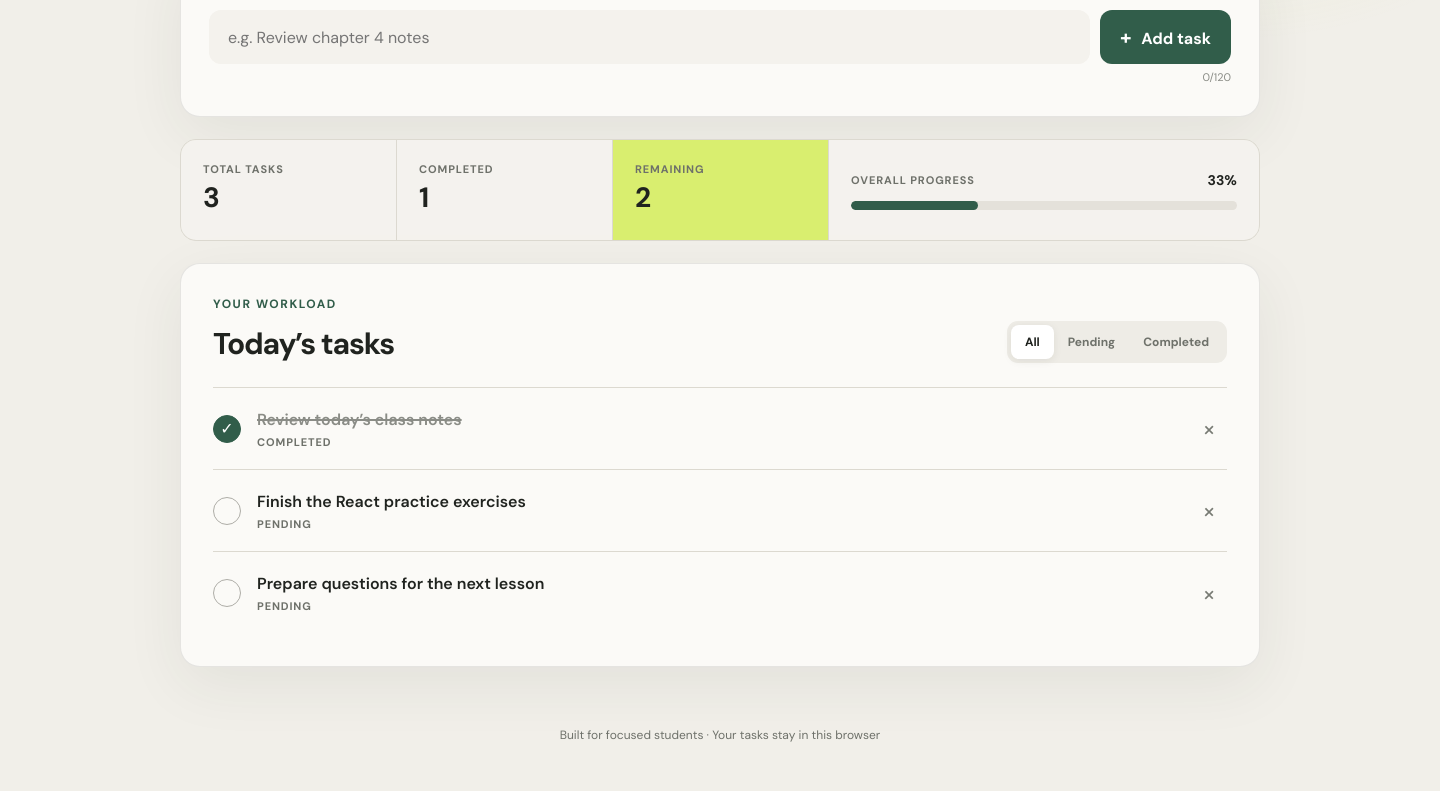
Student Task Manager › asks for confirmation before deleting
(page scrolled)
Click the button named "delete prepare questions" at (1209, 593), box [1191,575,1227,611]
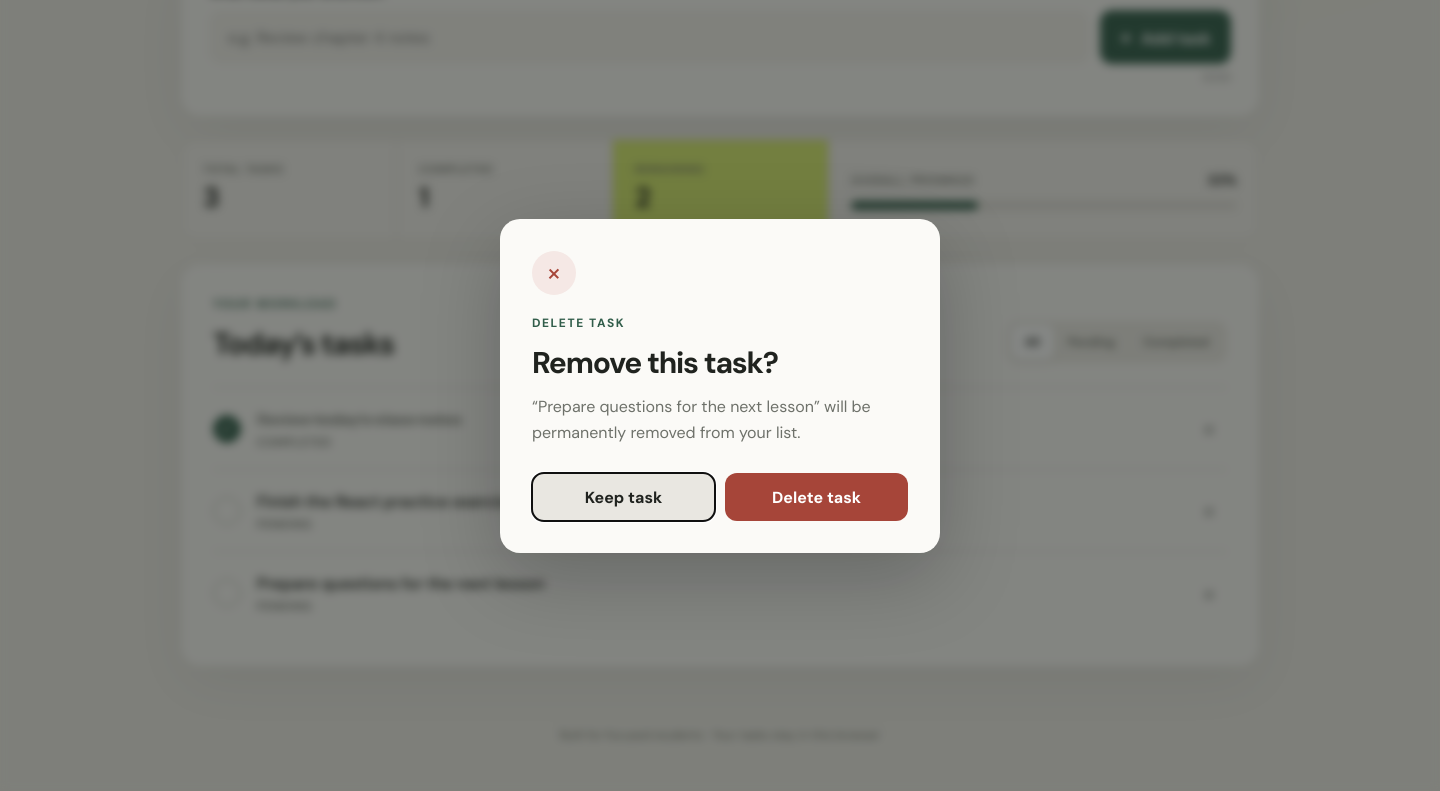
Expected: the dialog is shown, [500,219,940,553]
Click the button "Delete task" at (816, 497), box [725,473,908,521]
(page scrolled)
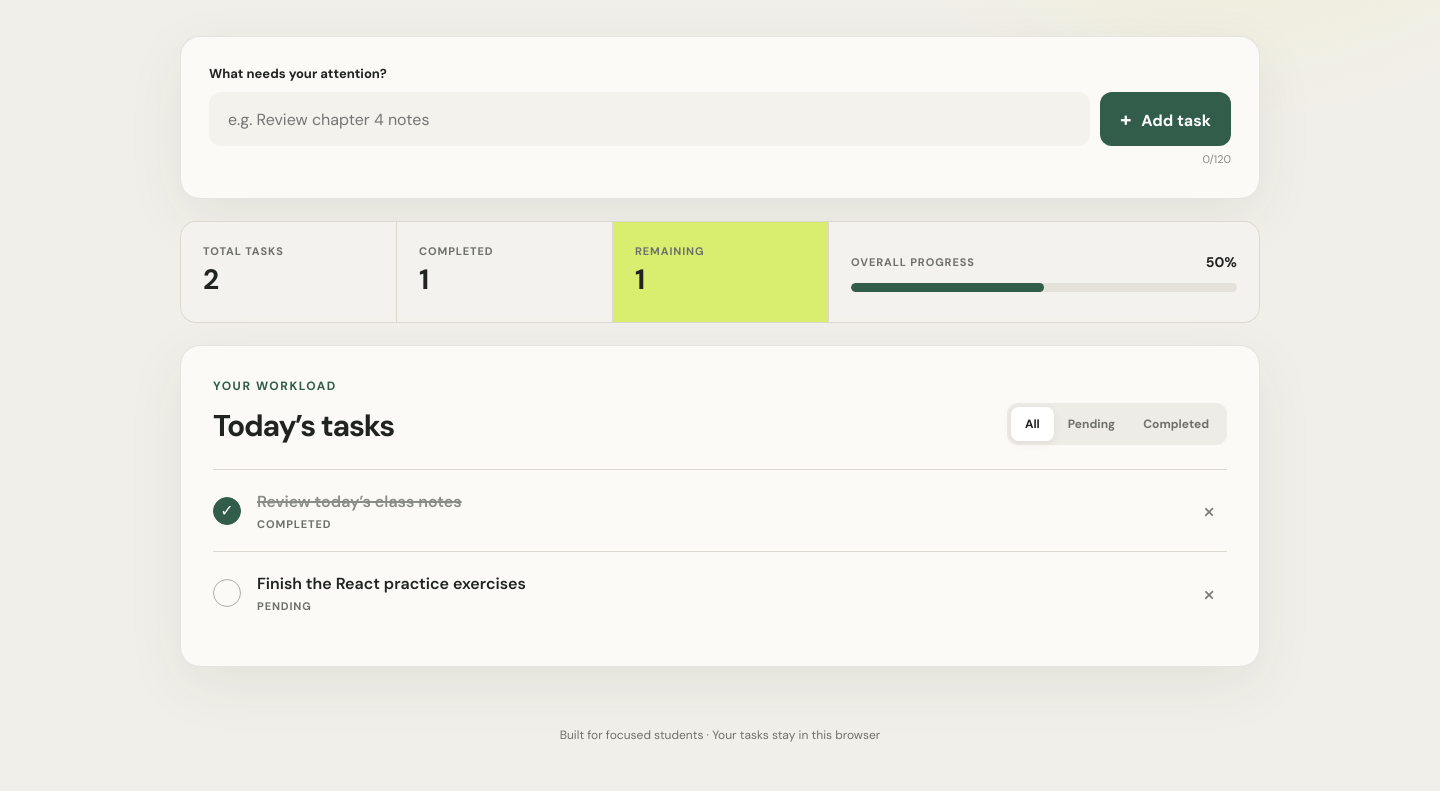
Expected: the text "Prepare questions for the next lesson" is gone
